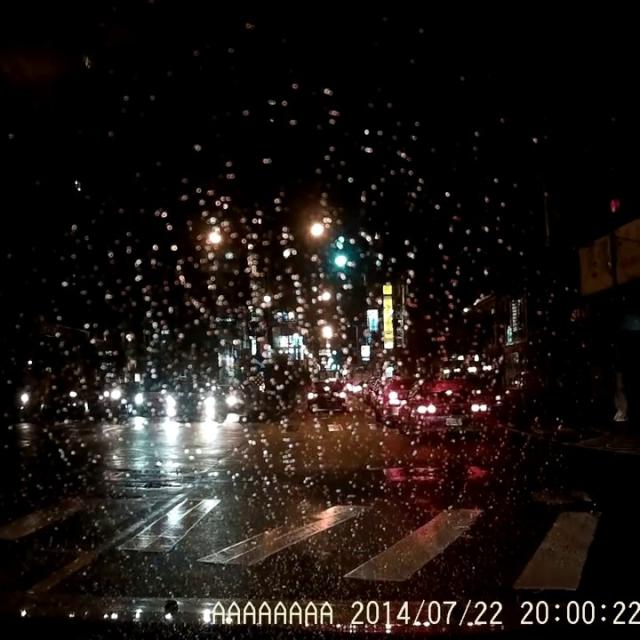Car: (396, 374, 495, 442), (165, 376, 221, 419), (377, 376, 422, 426), (304, 374, 347, 413)
